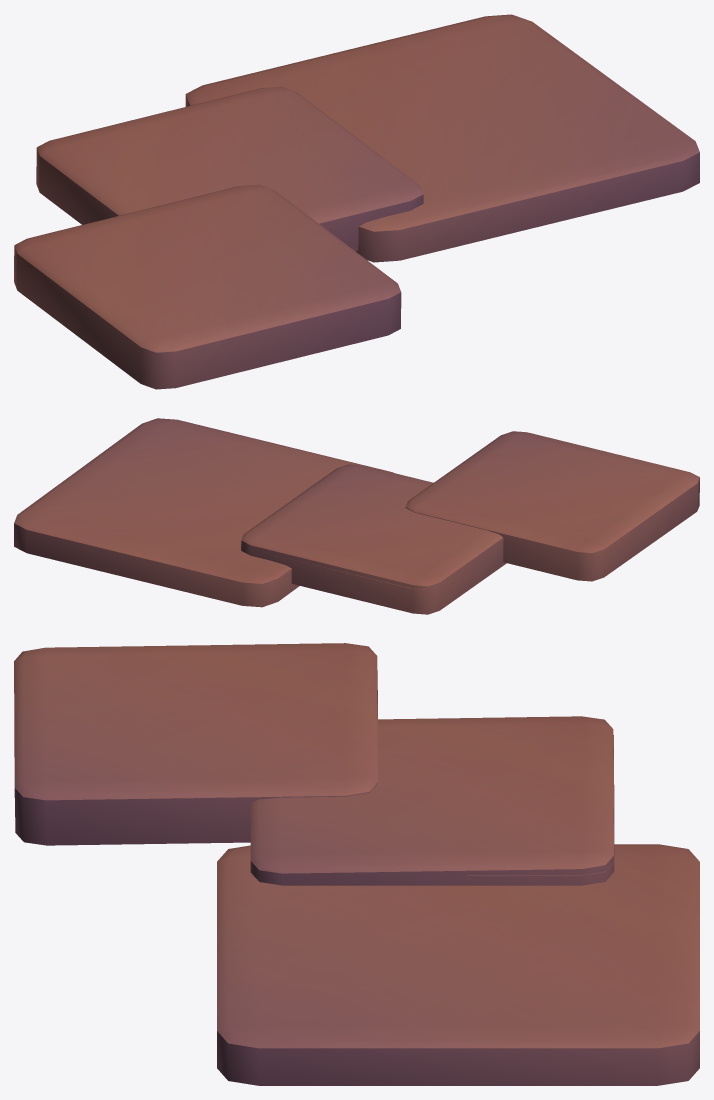
Rendered from Walls.fbx.
3 views of the same model, one above another, from view 1: azimuth 30°, elevation 25°; view 2: azimuth 150°, elevation 25°; view 3: azimuth 270°, elevation 25° (orthographic). The views are drawn at different scales.
Parts seen in each view (by area): view 1: Wall02, Wall01, Wall03; view 2: Wall02, Wall01, Wall03; view 3: Wall02, Wall01, Wall03.
Part boxes in pixels (x1,y1,x2,y2): Wall02: (185, 14, 699, 262); Wall01: (14, 184, 423, 389); Wall03: (36, 86, 423, 251); Wall02: (14, 418, 393, 607); Wall01: (241, 431, 699, 611); Wall03: (241, 464, 506, 614); Wall02: (217, 844, 699, 1085); Wall01: (14, 643, 613, 885); Wall03: (250, 716, 614, 885).
Bounding box in the file's own units: 2.98 × 0.2366 × 2.25.
